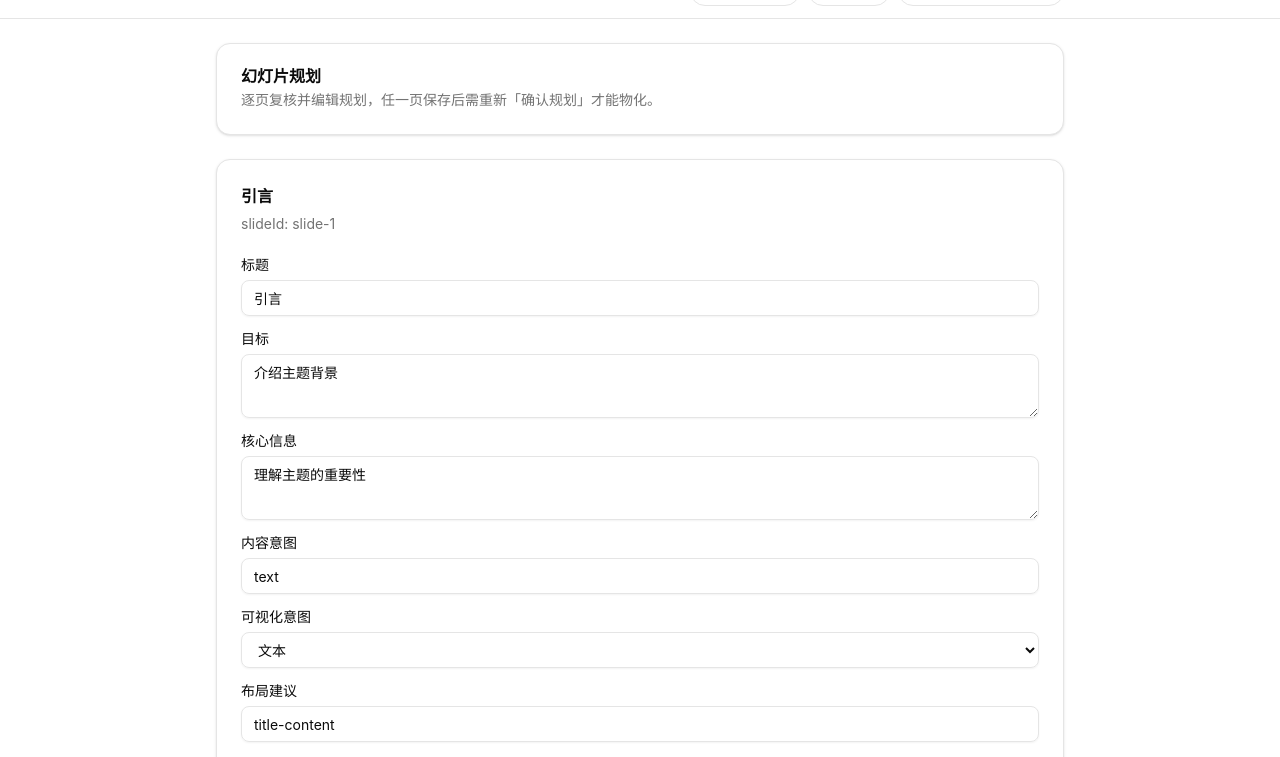
it: slide-plans page — unsaved edits block confirm/materialize › editing a plan without saving disables 确认规划 + shows a hint; saving clears it
The width and height of the screenshot is (1280, 757).
Check: the text "slideId: slide-1" is shown, box [241, 215, 335, 232]
In the text box labelled "目标": [640, 386] box [241, 354, 1039, 418], type "X"
(page scrolled)
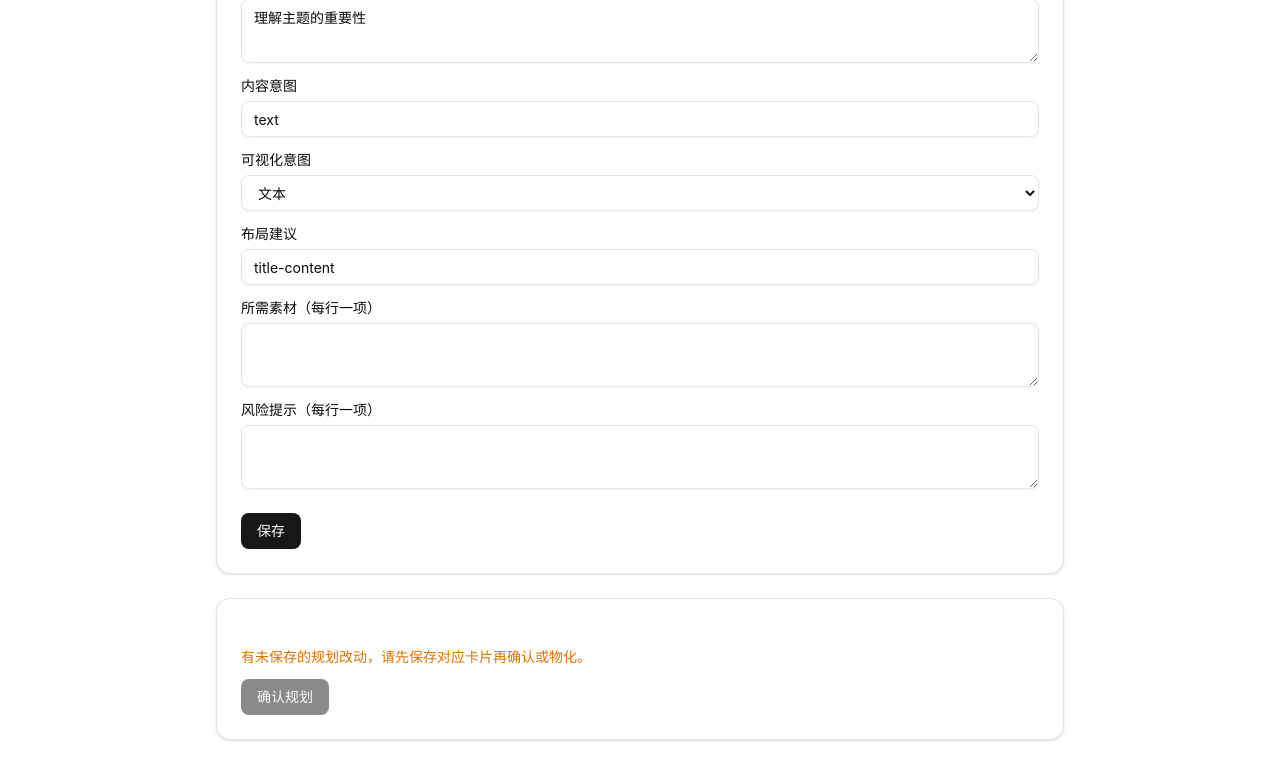
Check: the button "确认规划" is disabled, box [241, 679, 329, 715]
Check: the text "有未保存的规划改动，请先保存对应卡片再确认或物化。" is shown, box [241, 648, 591, 665]
Click the button "保存": [271, 531] box [241, 513, 301, 549]
(page scrolled)
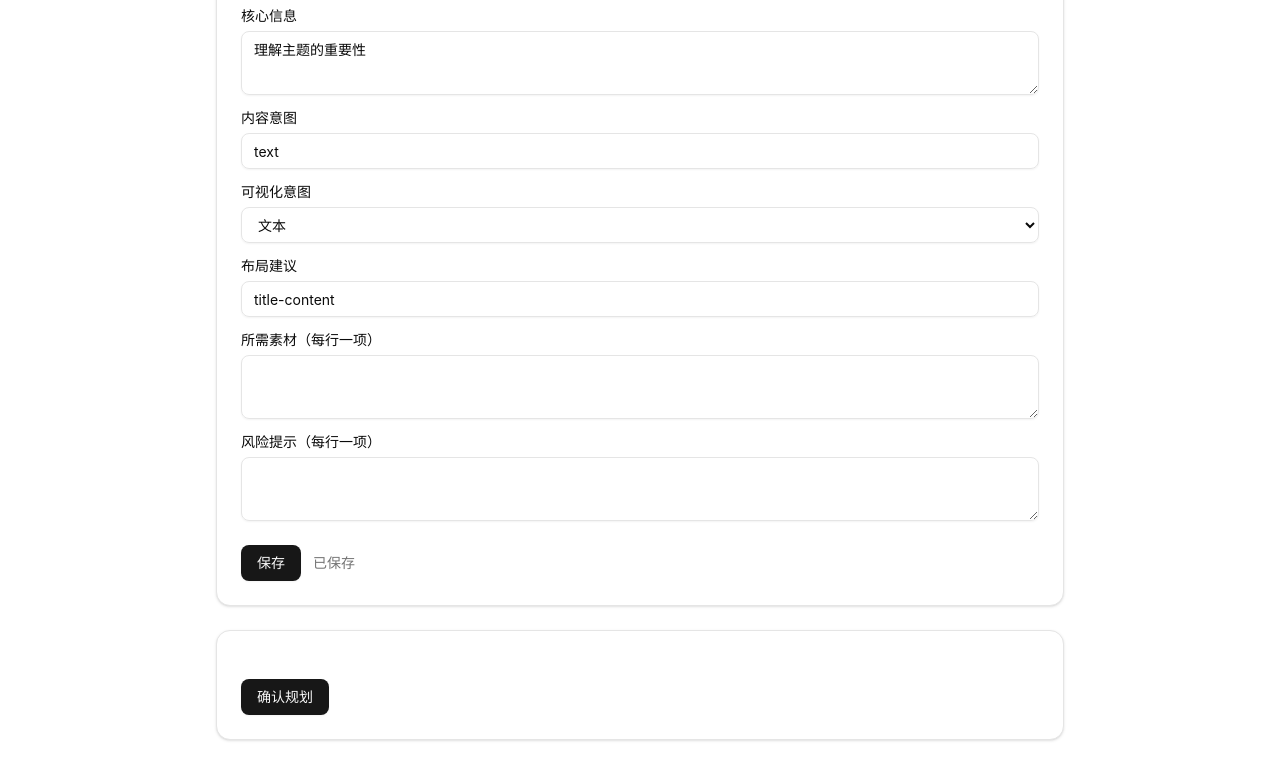
Check: the button "确认规划" is enabled, box [241, 679, 329, 715]
